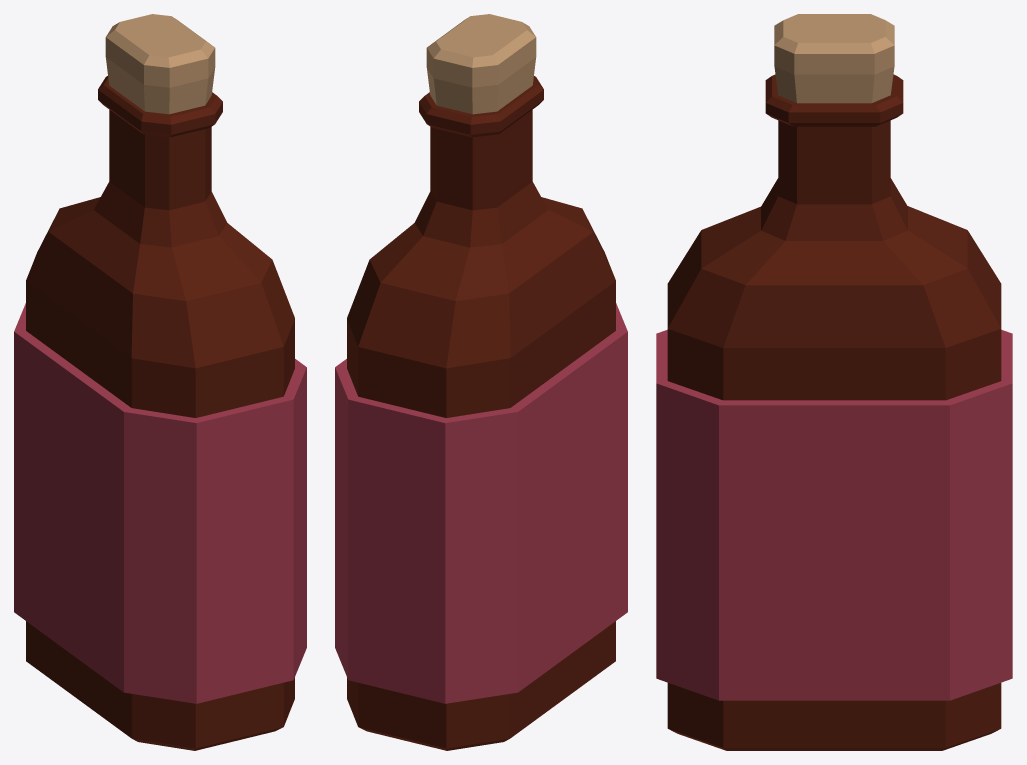
File: bottle-d.glb
3 views of the same model, side by side, from view 1: azimuth 30°, elevation 25°; view 2: azimuth 150°, elevation 25°; view 3: azimuth 270°, elevation 25° (orthographic). The views are drawn at different scales.
Parts seen in each view (by area): view 1: Bottle D (×3); view 2: Bottle D (×3); view 3: Bottle D (×3).
Part boxes in pixels (x1,y1,x2,y2): Bottle D (×3): [14, 14, 306, 750]; Bottle D (×3): [335, 14, 627, 750]; Bottle D (×3): [656, 14, 1012, 750].
Size of the model in its own units: 0.063 by 0.2139 by 0.1009.
